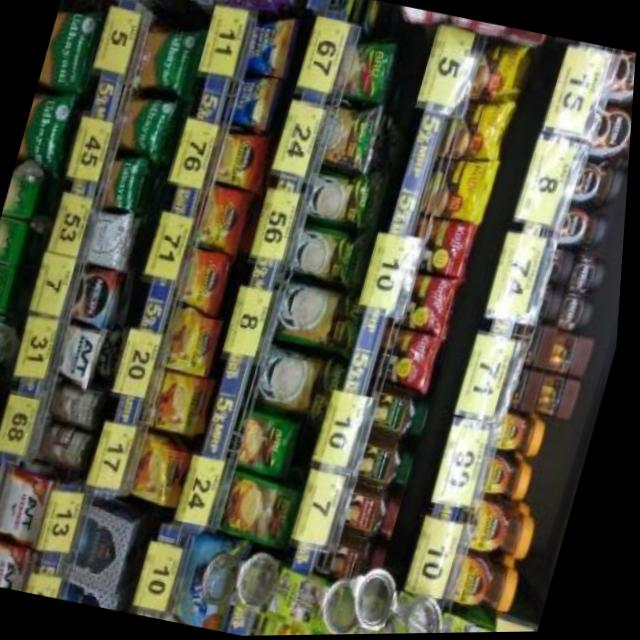Coffee: (458, 494, 546, 561), (143, 369, 223, 438), (126, 436, 203, 507), (451, 551, 531, 617), (159, 308, 228, 376), (173, 245, 240, 311), (575, 102, 634, 170), (194, 187, 255, 250), (207, 128, 270, 186), (68, 265, 127, 326), (563, 156, 629, 210), (477, 453, 540, 505), (549, 205, 615, 254), (488, 408, 553, 457), (592, 47, 637, 112), (558, 294, 601, 336), (570, 253, 611, 296), (535, 248, 577, 287), (525, 284, 565, 324)
